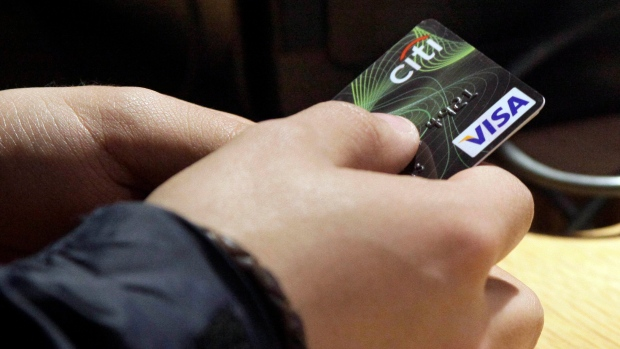tarjeta: (327, 17, 549, 181)
